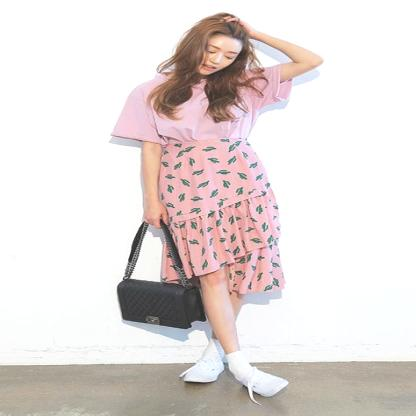dress: (134, 131, 288, 302), (109, 60, 299, 147)
